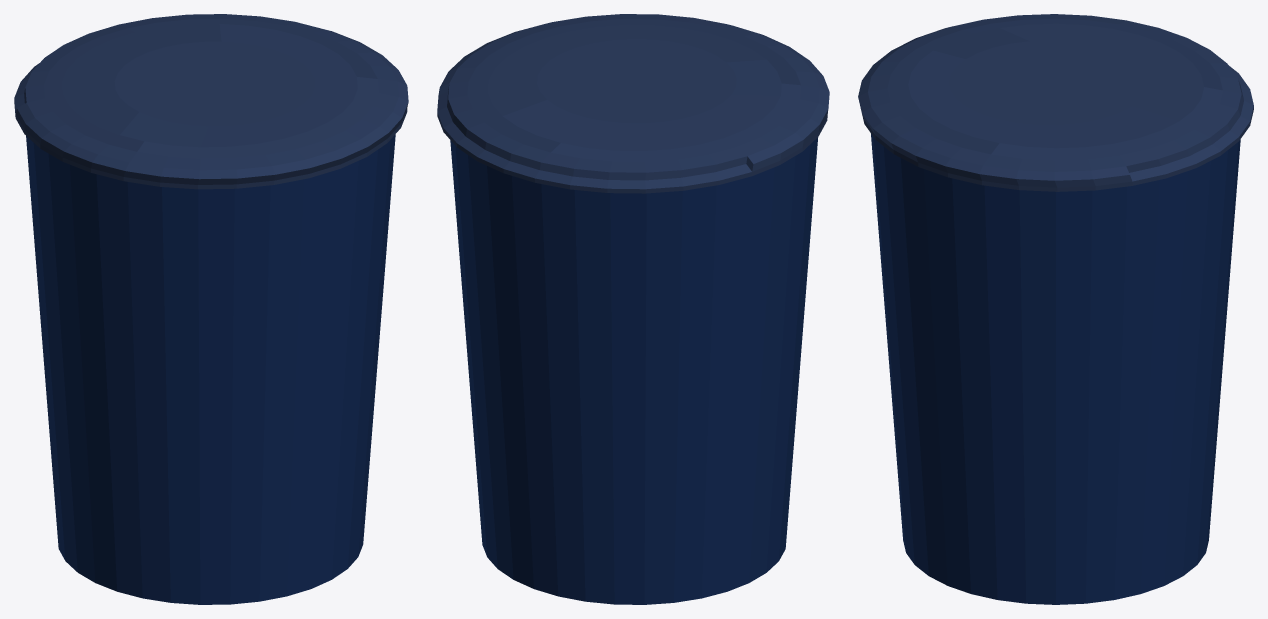
File: Garbage Bin 2.fbx
The picture shows the model from 3 angles, left to right: view 1: azimuth 30°, elevation 25°; view 2: azimuth 150°, elevation 25°; view 3: azimuth 270°, elevation 25°; orthographic projection.
Visible parts, largest first — view 1: Tongnya, Kotaknya; view 2: Tongnya, Kotaknya; view 3: Tongnya, Kotaknya.
Part boxes in pixels (left/top/right/bottom): Tongnya: left=26, top=134, right=395, bottom=604; Kotaknya: left=14, top=14, right=408, bottom=189; Tongnya: left=450, top=137, right=818, bottom=604; Kotaknya: left=437, top=14, right=829, bottom=193; Tongnya: left=871, top=134, right=1240, bottom=604; Kotaknya: left=858, top=14, right=1253, bottom=191.
Size of the model in its own units: 257 by 331 by 259.
